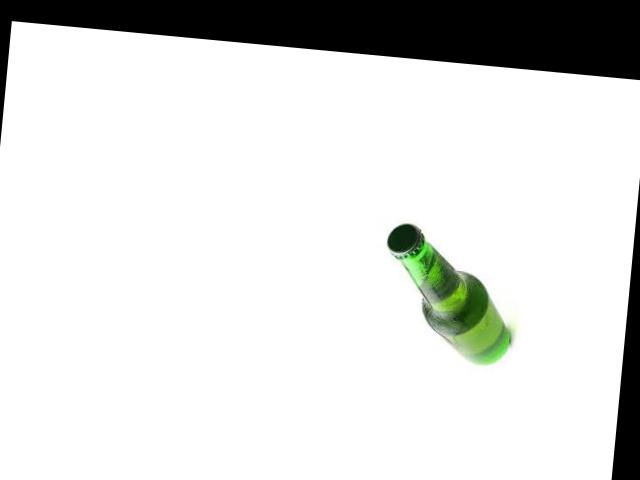beer: (377, 221, 520, 367)
